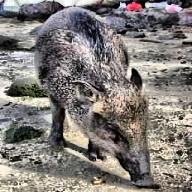boar: (32, 6, 160, 188)
